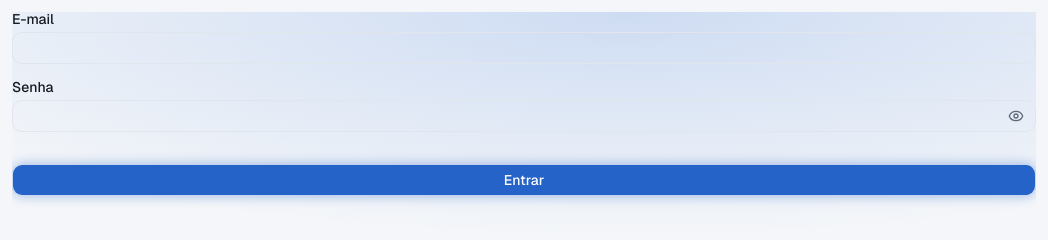
Scenario: AuthForm › announces wrong credentials
Type "a@b.com" into the field labelled "E-mail".
click(524, 48); type("a@b.com")  # box [12,32,1036,64]
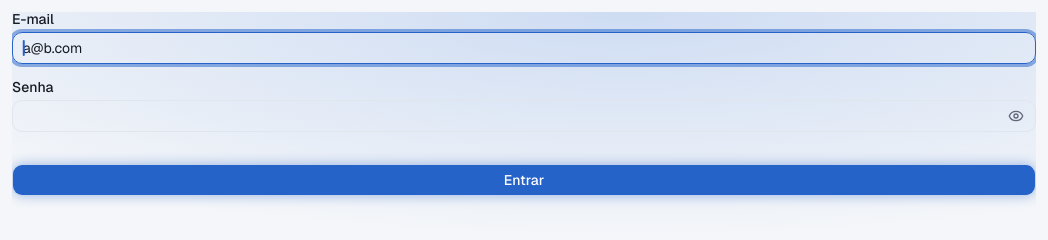
Type "errada123" into the password field labelled "Senha".
click(524, 116); type("errada123")  # box [12,100,1036,132]
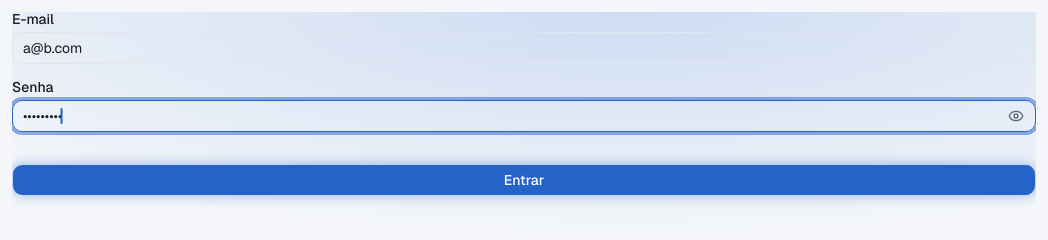
Click the button "Entrar".
click(524, 180)  # box [12,164,1036,196]
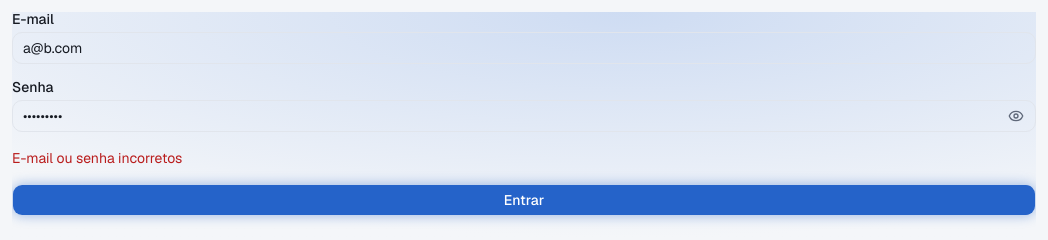
expect the message reads "E-mail ou senha incorretos": met, box [12,149,182,167]
